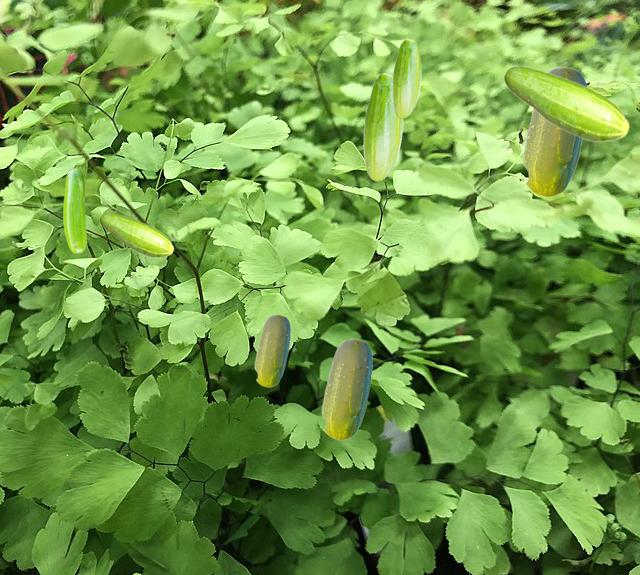cucumber: (503, 65, 629, 142), (522, 66, 586, 196), (321, 338, 371, 439), (363, 73, 402, 180), (99, 212, 173, 257), (254, 314, 289, 386), (392, 39, 420, 117), (63, 168, 85, 252)
